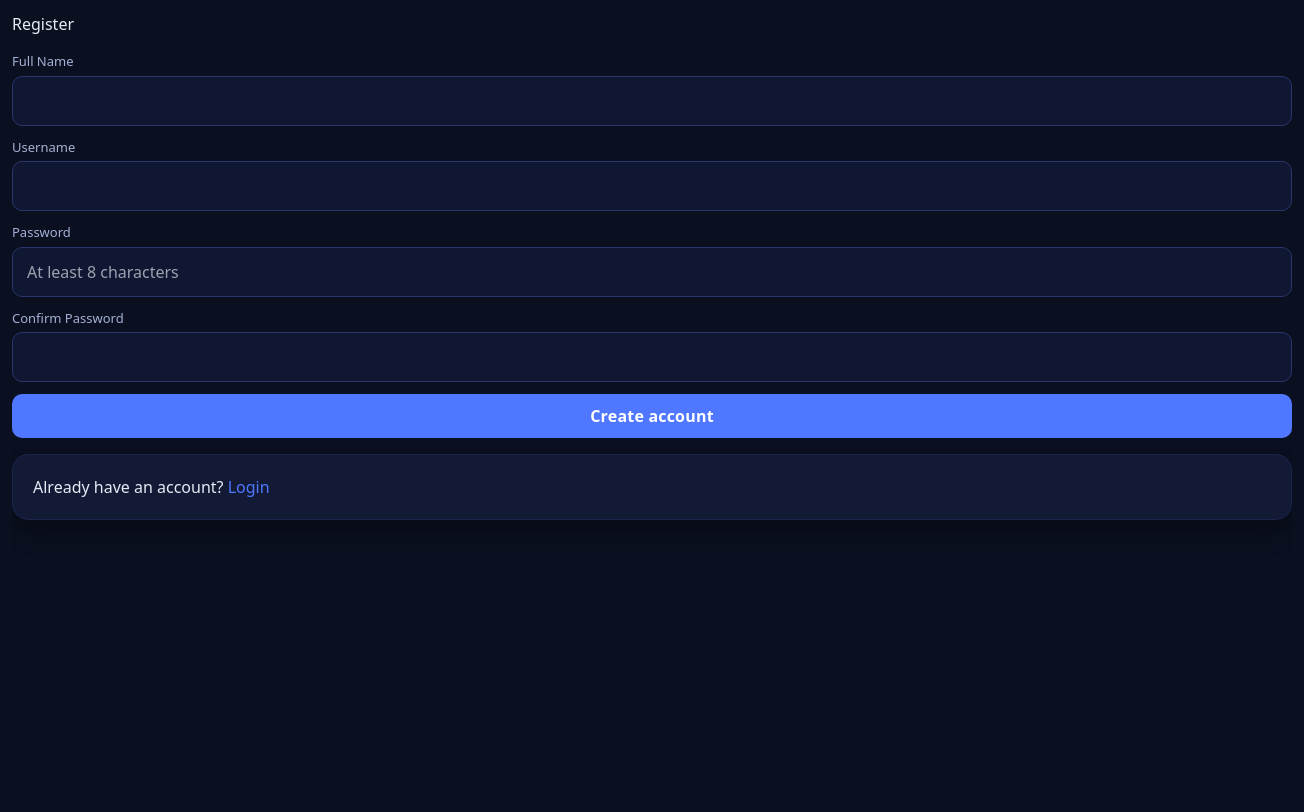
Test: RegisterPage validation › rejects when passwords do not match
Type "Jane Doe" into the field labelled "Full Name". click: (652, 100)
box: [12,76,1292,126]
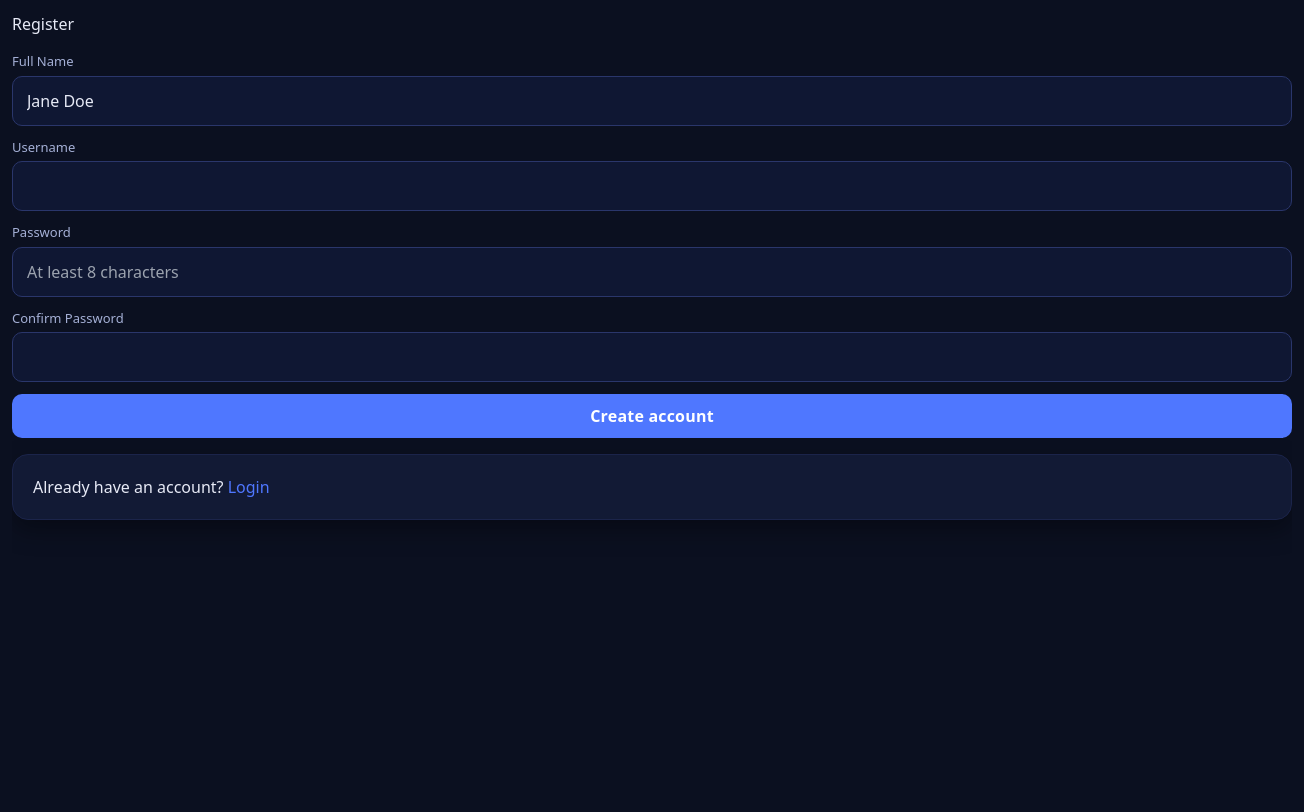
Type "jane" into the field labelled "Username". click: (652, 186)
box: [12,161,1292,211]
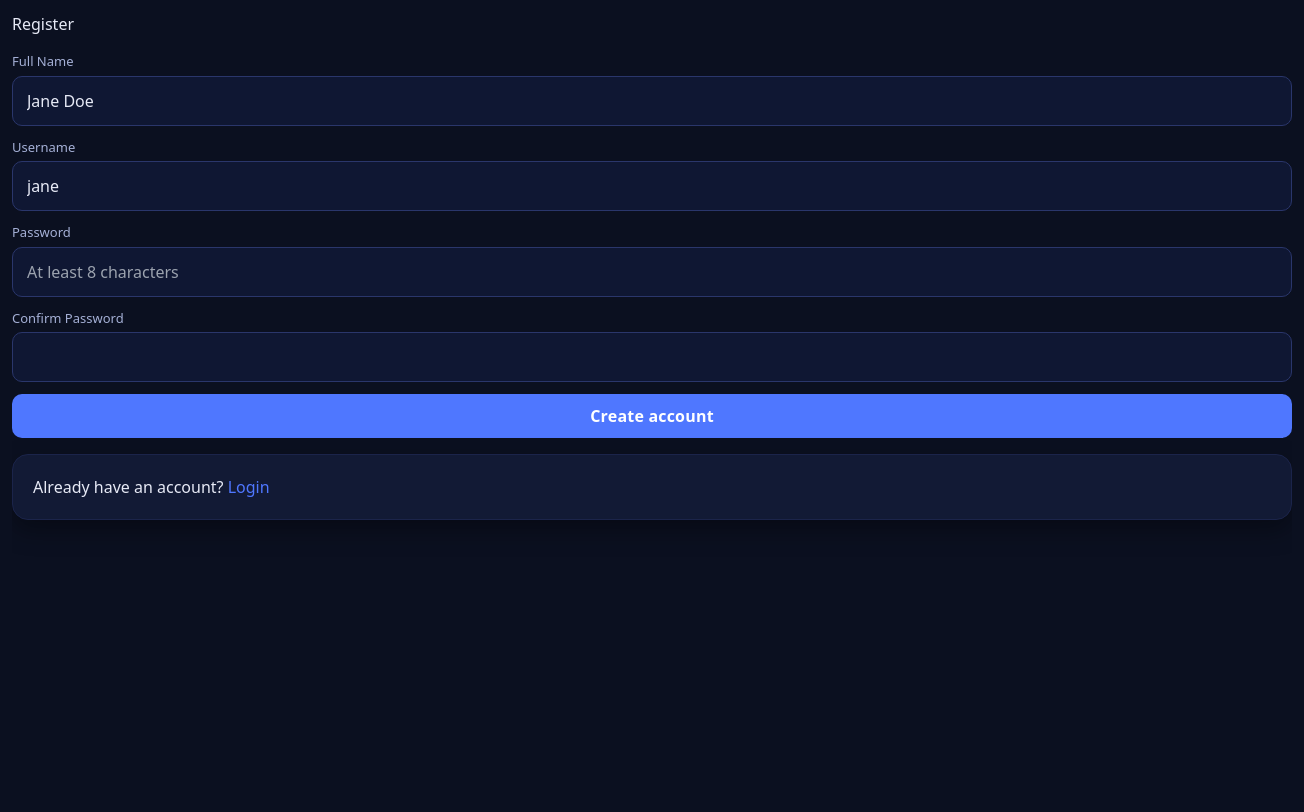
Type "longenough" into the password field labelled "Password". click: (652, 272)
box: [12,246,1292,296]
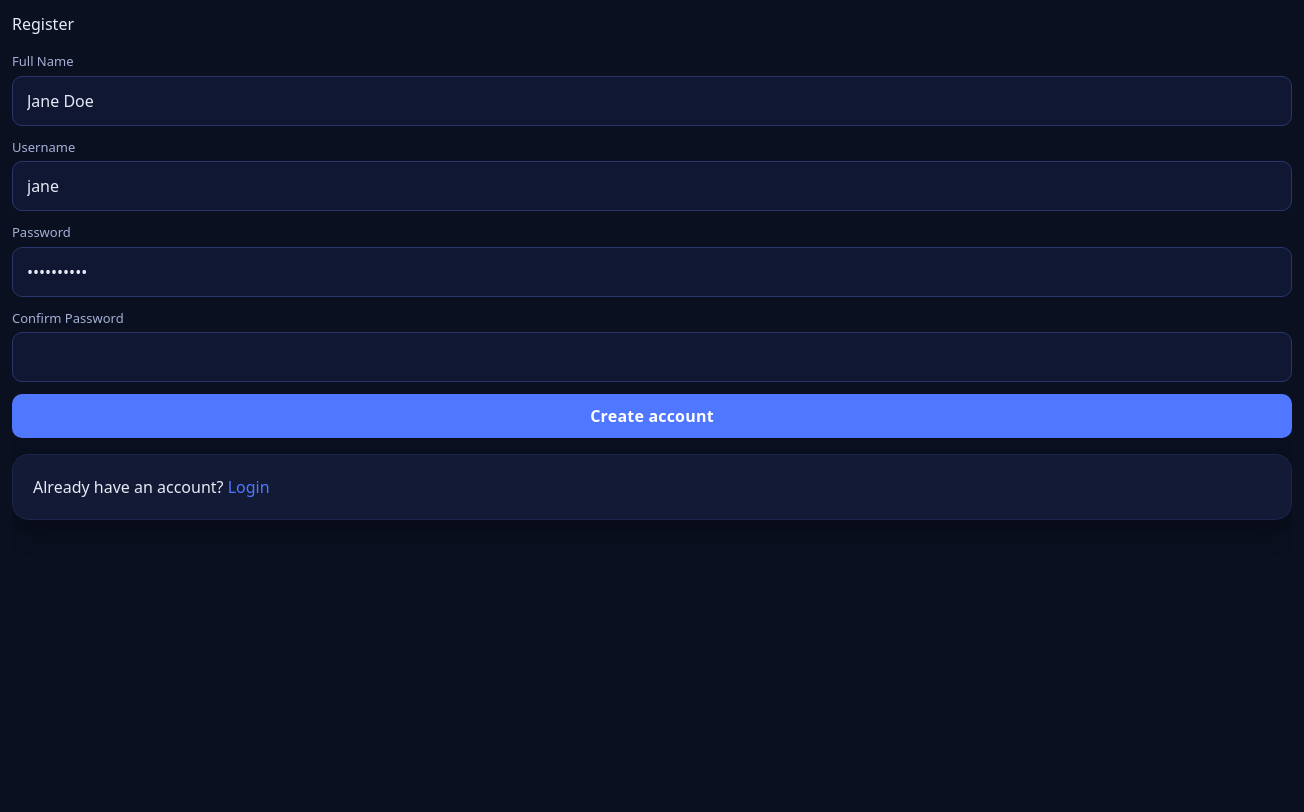
Type "different" into the password field labelled "Confirm Password". click: (652, 357)
box: [12,332,1292,382]
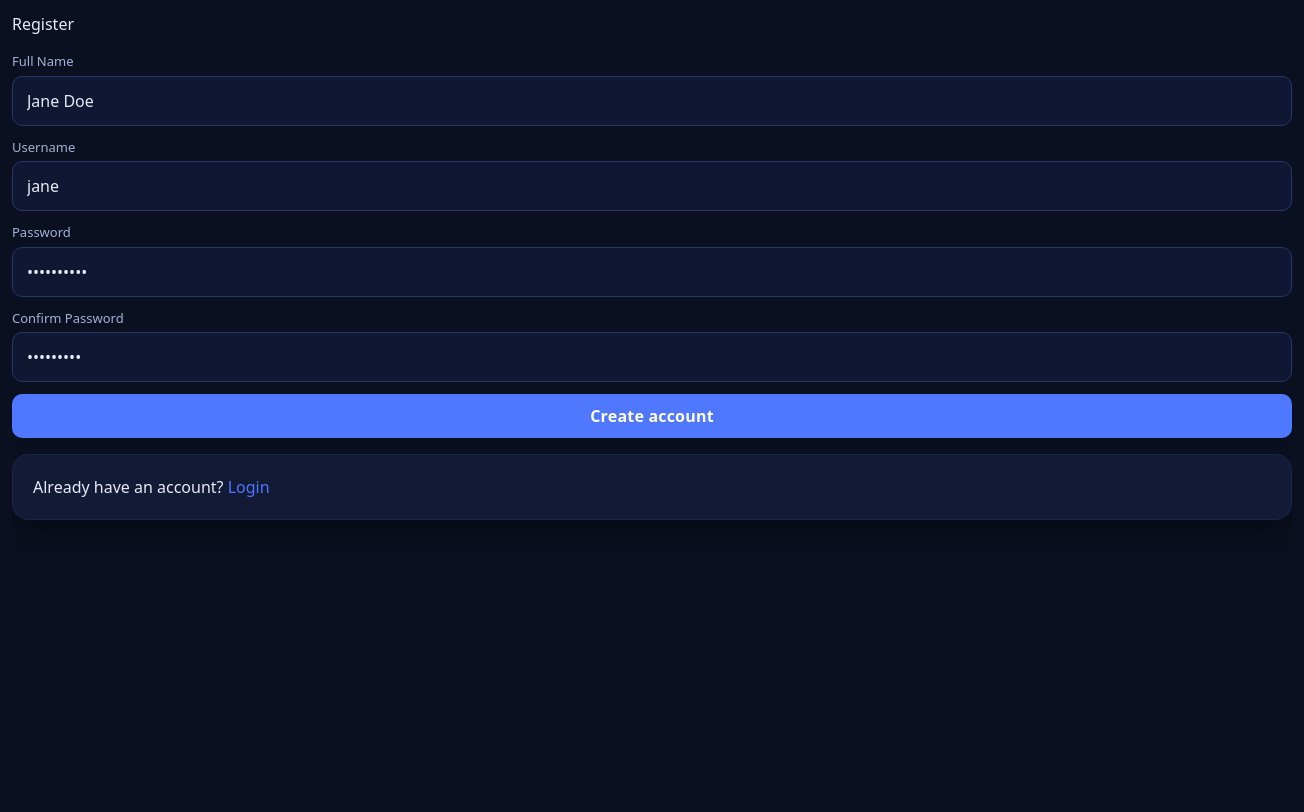
Click the button "Create account". click: (652, 416)
box: [12,394,1292,438]
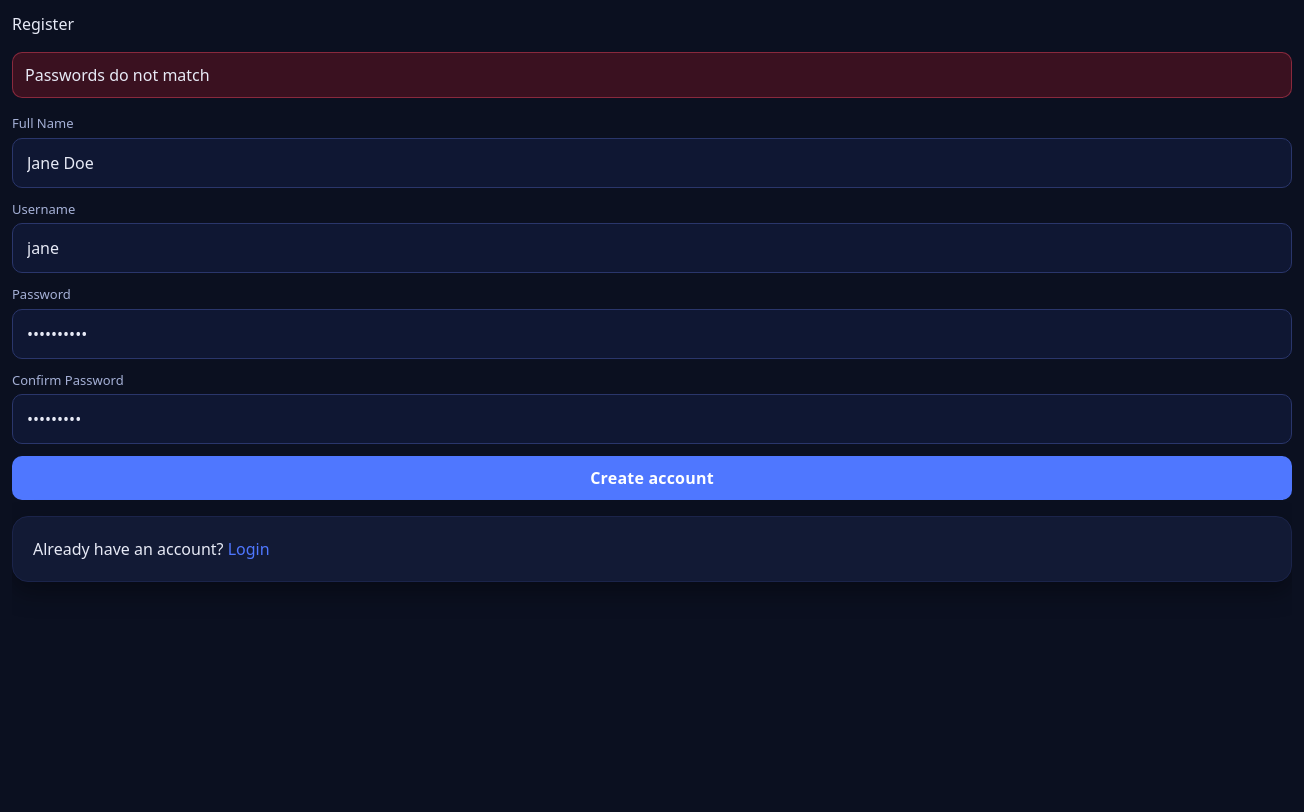
Expected: the text "Passwords do not match" is shown, [12,52,1292,98]
